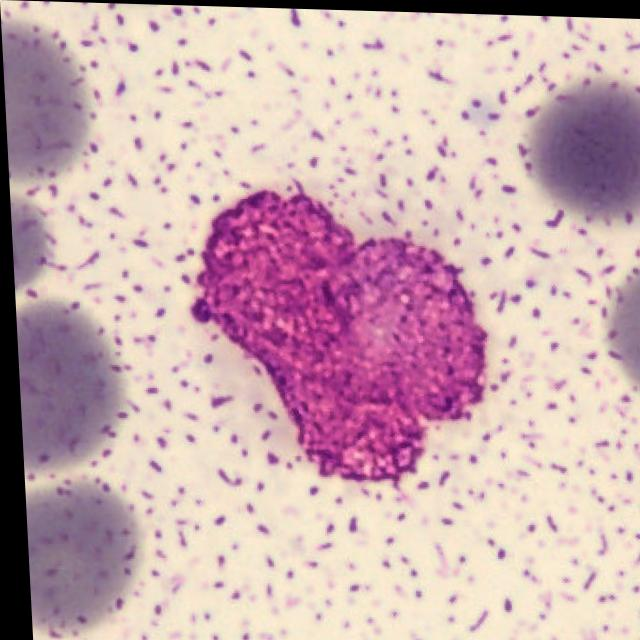Restos celulares: (188, 189, 485, 482)
